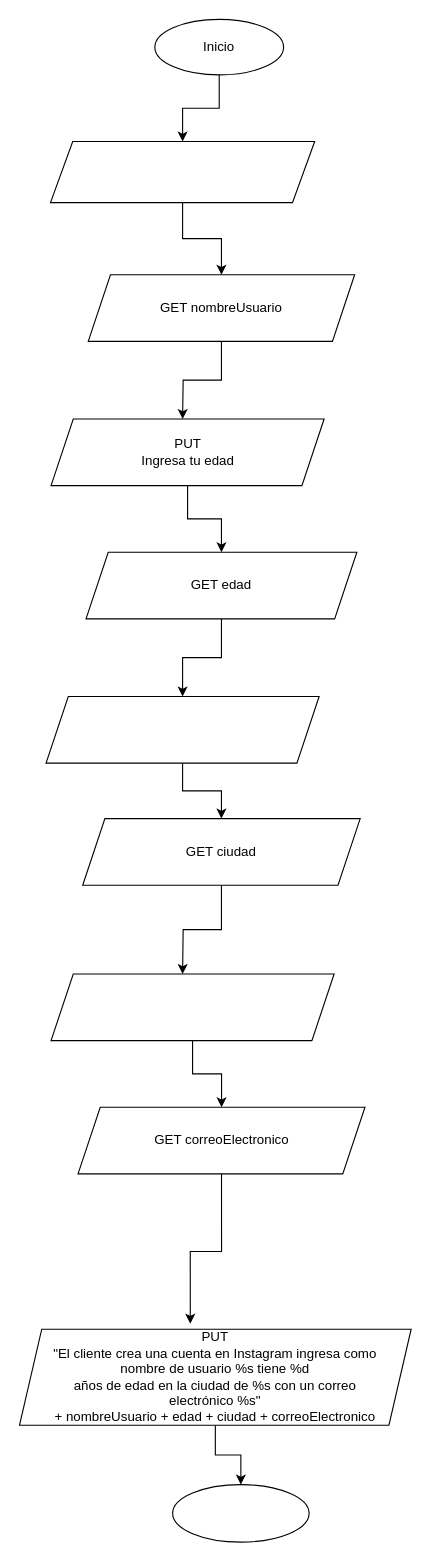
Image size: 431x1562. Some labels were removed from this diagram. Here are the shapes that lost their labels. From the top down, the centre of each, then its label:
the point at 182,171: PUT Ingresa un nombre e usuario
the point at 182,729: PUT Ingresa la ciudad en la que resides
the point at 192,1007: PUT Ingresa tu correo electrónico
the point at 240,1513: Fin
